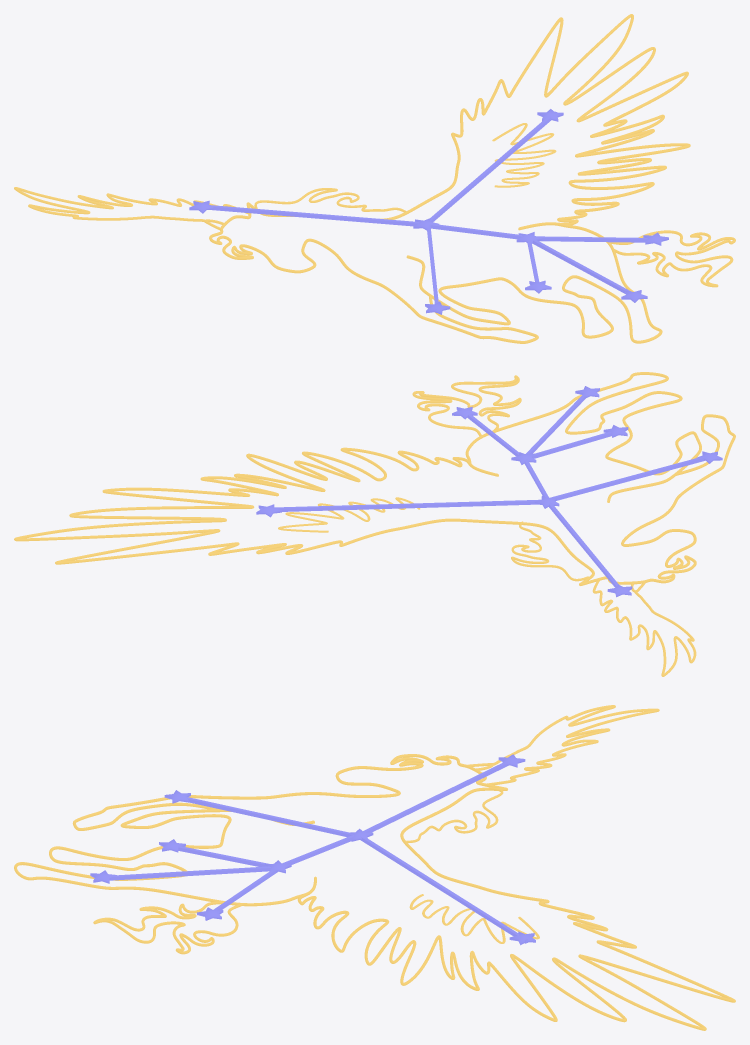
File: pegasus.glb
The picture shows the model from 3 angles, top to bottom: view 1: azimuth 30°, elevation 25°; view 2: azimuth 150°, elevation 25°; view 3: azimuth 270°, elevation 25°; orthographic projection. The views are drawn at different scales.
Visible parts, largest first — view 1: NurbsPath.025, NurbsPath.026, NurbsPath.027, NurbsPath.029, Cube.002, Cube.007, NurbsPath.028, Cube.016, Cube.017; view 2: NurbsPath.025, NurbsPath.027, Cube.007, NurbsPath.026, NurbsPath.029, Cube.006, NurbsPath.028, Cube.002; view 3: NurbsPath.025, NurbsPath.026, NurbsPath.027, Cube.007, Cube.006, Cube.002, Cube.016, NurbsPath.029, NurbsPath.028.
Boxes of the visible parts, x1,y1,x2,y2 form: NurbsPath.025: (209, 14, 690, 343); NurbsPath.026: (14, 187, 248, 230); NurbsPath.027: (610, 230, 735, 287); NurbsPath.029: (492, 123, 556, 187); Cube.002: (210, 205, 419, 226); Cube.007: (430, 111, 556, 222); NurbsPath.028: (254, 188, 406, 212); Cube.016: (532, 239, 630, 294); Cube.017: (537, 236, 647, 242); NurbsPath.025: (14, 372, 735, 585); NurbsPath.027: (412, 375, 521, 436); Cube.007: (260, 499, 541, 511); NurbsPath.026: (592, 578, 696, 676); NurbsPath.029: (278, 497, 420, 532); Cube.006: (549, 454, 715, 500); NurbsPath.028: (511, 521, 589, 581); Cube.002: (548, 502, 618, 587); NurbsPath.025: (14, 754, 735, 1030); NurbsPath.026: (467, 705, 659, 785); NurbsPath.027: (93, 901, 242, 954); Cube.007: (360, 837, 527, 943); Cube.006: (172, 794, 352, 837); Cube.002: (362, 762, 507, 832); Cube.016: (109, 866, 270, 880); NurbsPath.029: (409, 894, 539, 943); NurbsPath.028: (406, 787, 503, 843).
Size of the model in its own units: 29.58 by 0.5528 by 27.84.
